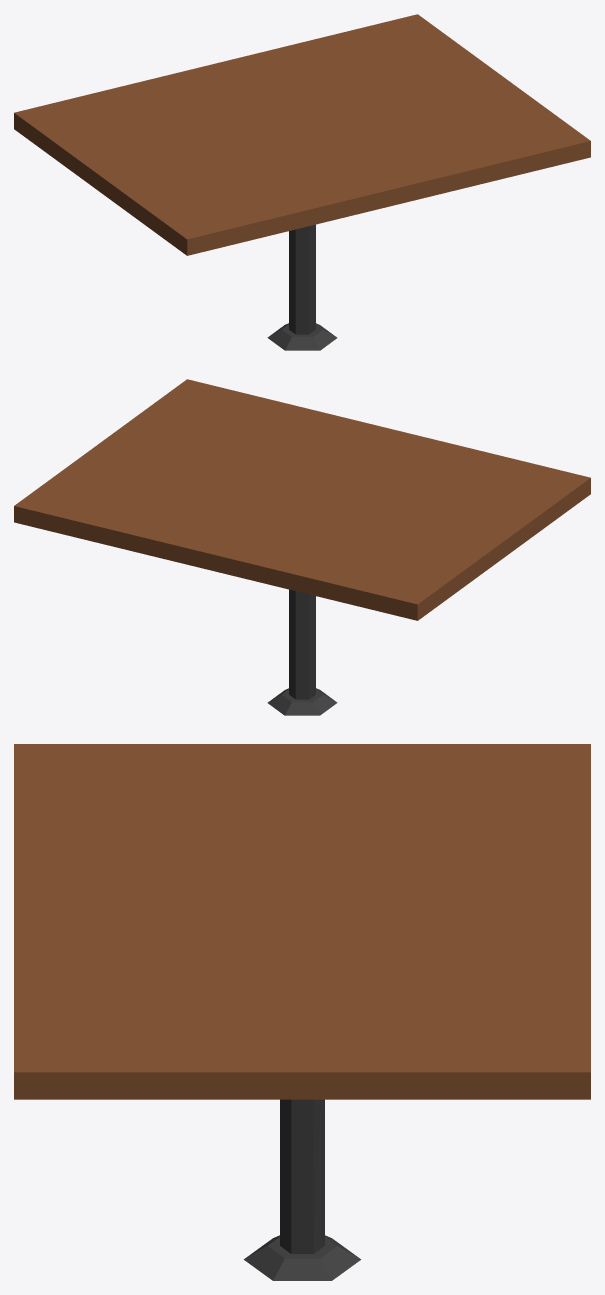
File: booth_table.fbx
3 renders of one model, top to bottom at view 1: azimuth 30°, elevation 25°; view 2: azimuth 150°, elevation 25°; view 3: azimuth 270°, elevation 25°, orthographic. The views are drawn at different scales.
Visible parts, largest first — view 1: Cube.001, Cube.001_cell.006, Cube.001_cell.002, Cube.001_cell.004, Cylinder, Cube.001_cell; view 2: Cube.001, Cube.001_cell.002, Cube.001_cell.006, Cylinder_cell.001, Cylinder, Cube.001_cell.003, Cube.001_cell, Cube.001_cell.007, Cylinder_cell.003, Cube.001_cell.004; view 3: Cube.001, Cube.001_cell.006, Cube.001_cell.002, Cube.001_cell, Cylinder_cell.003, Cube.001_cell.004, Cube.001_cell.005, Cube.001_cell.007, Cylinder, Cylinder_cell.001, Cylinder_cell.004.
Part boxes in pixels (x1,y1,x2,y2): Cube.001: [14, 15, 590, 255]; Cube.001_cell.006: [216, 14, 503, 126]; Cube.001_cell.002: [14, 63, 301, 175]; Cube.001_cell.004: [304, 122, 454, 189]; Cylinder: [267, 226, 331, 350]; Cube.001_cell: [102, 174, 258, 241]; Cube.001: [14, 379, 590, 620]; Cube.001_cell.002: [216, 492, 503, 611]; Cube.001_cell.006: [14, 442, 301, 561]; Cylinder_cell.001: [274, 606, 319, 715]; Cylinder: [274, 589, 337, 715]; Cube.001_cell.003: [216, 564, 417, 620]; Cube.001_cell: [459, 470, 590, 539]; Cube.001_cell.007: [14, 514, 215, 570]; Cylinder_cell.003: [267, 610, 293, 707]; Cube.001_cell.004: [289, 417, 388, 488]; Cube.001: [14, 744, 590, 1099]; Cube.001_cell.006: [303, 908, 590, 1085]; Cube.001_cell.002: [303, 744, 590, 907]; Cube.001_cell: [14, 744, 302, 822]; Cylinder_cell.003: [256, 1099, 342, 1280]; Cube.001_cell.004: [14, 908, 301, 1085]; Cube.001_cell.005: [14, 1086, 301, 1099]; Cube.001_cell.007: [303, 1086, 590, 1099]; Cylinder: [245, 1099, 343, 1272]; Cylinder_cell.001: [322, 1099, 360, 1272]; Cylinder_cell.004: [244, 1099, 282, 1267].
Size of the model in its own units: 166 by 82.99 by 123.
